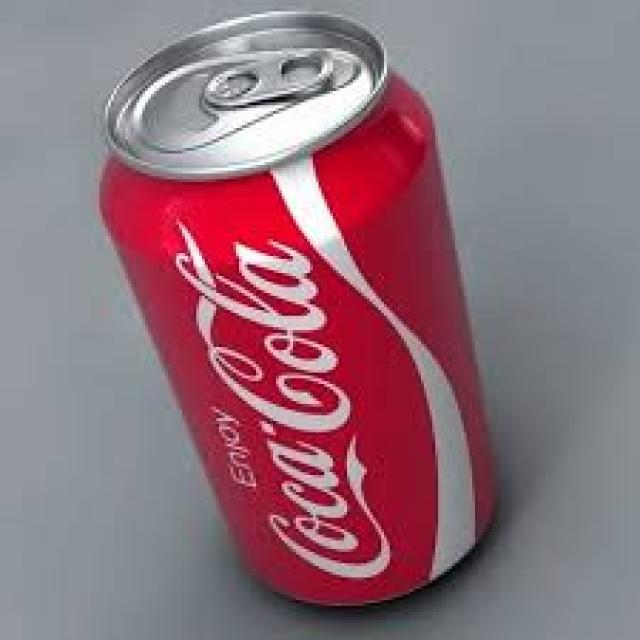Cans: (91, 3, 512, 617)
